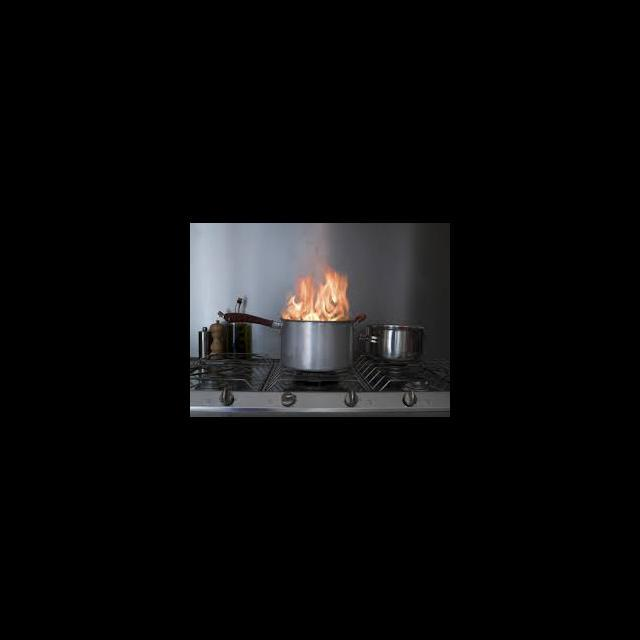Fire: (279, 262, 360, 321)
